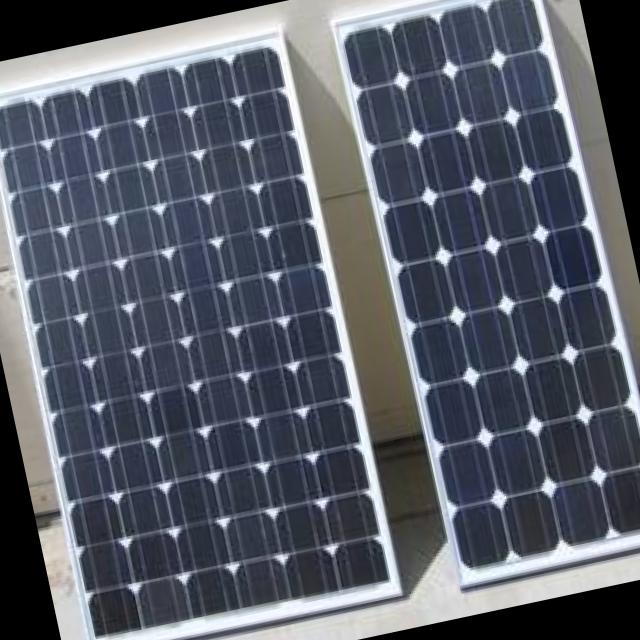no faulty: (0, 48, 392, 636), (347, 0, 640, 568)
